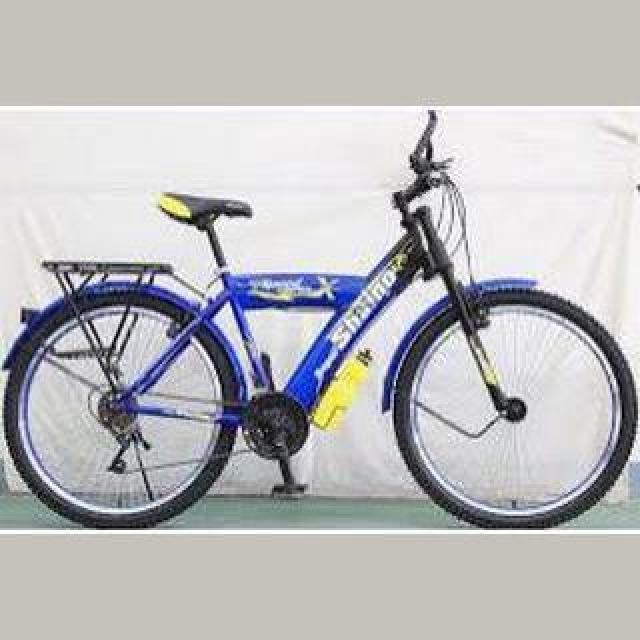Person: (6, 113, 636, 529)
